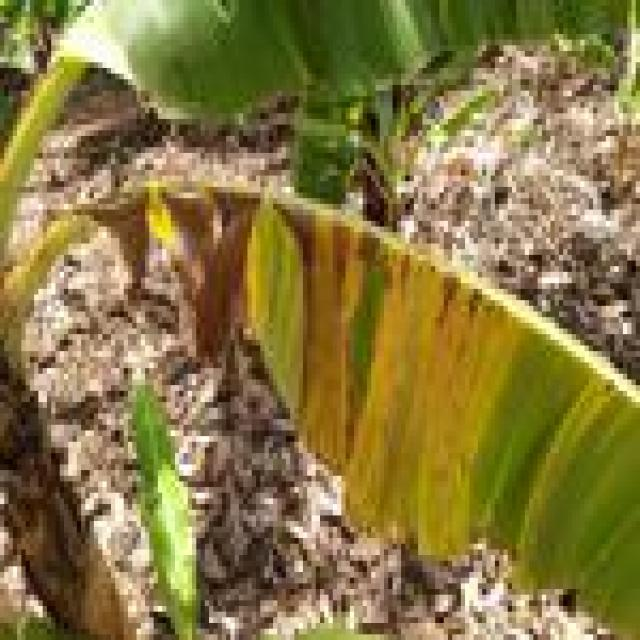Early_rust: (25, 124, 640, 628)
